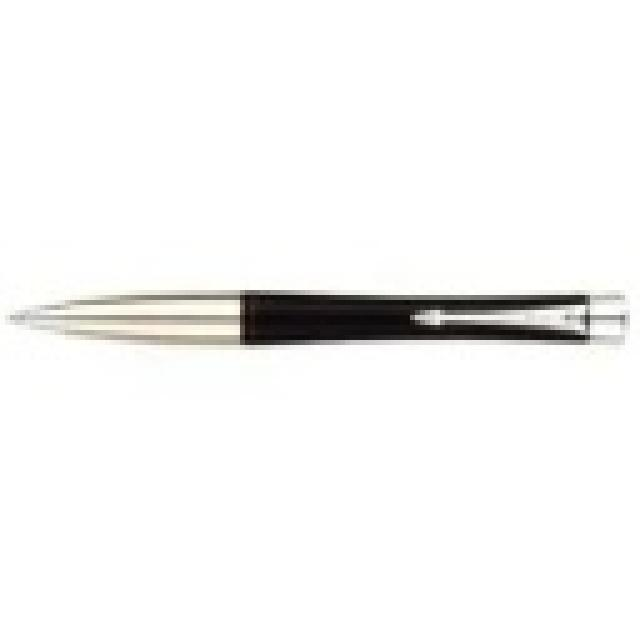pen: (2, 282, 635, 354)
